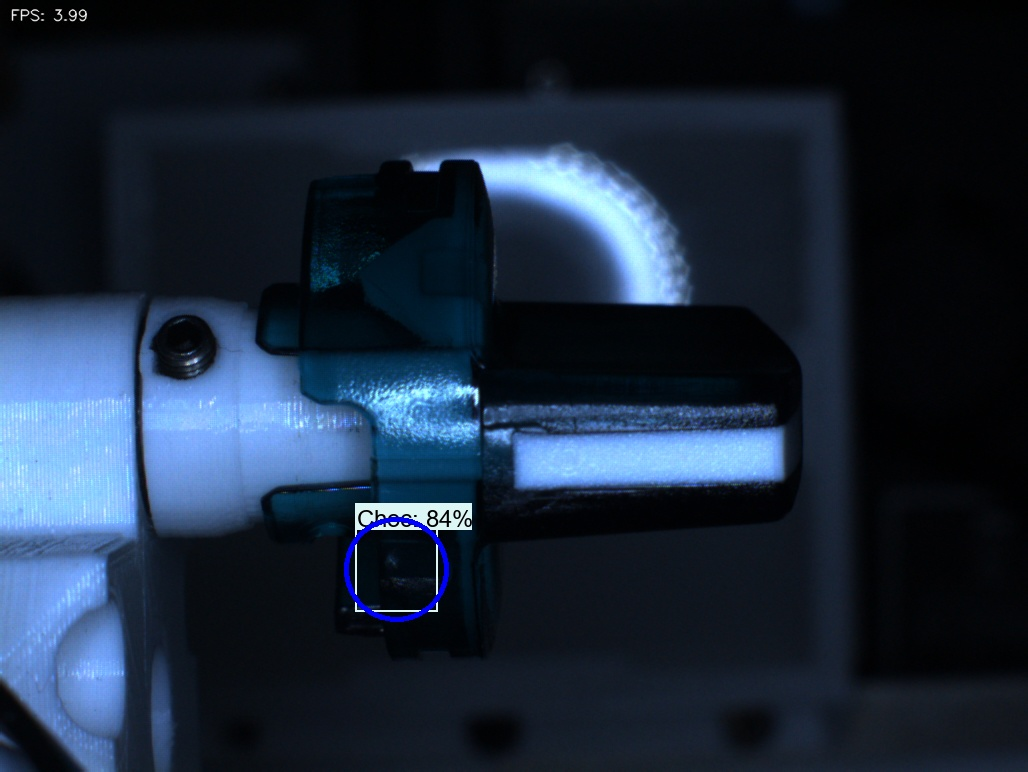DentOk: (331, 226, 410, 326)
